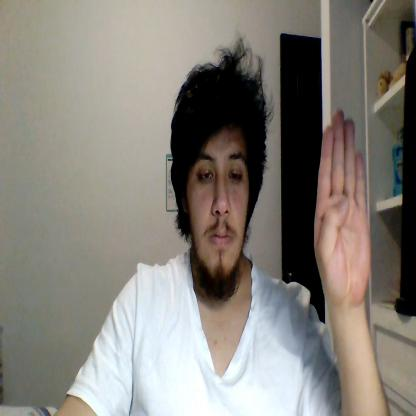B: (314, 109, 371, 305)
